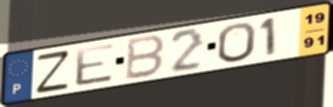1: (258, 15, 278, 59)
2: (167, 27, 210, 77)
B: (123, 33, 168, 82)
E: (74, 41, 117, 88)
O: (216, 21, 258, 65)
Z: (35, 48, 72, 96)
